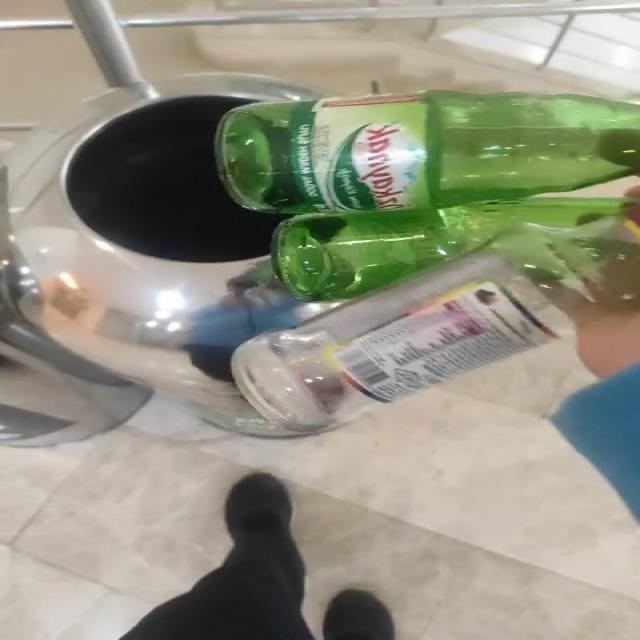glass: (215, 90, 640, 433)
